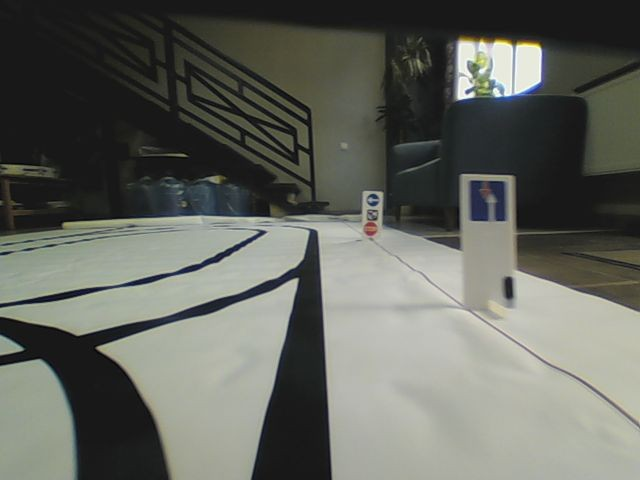priority_movement: (467, 177, 508, 226)
